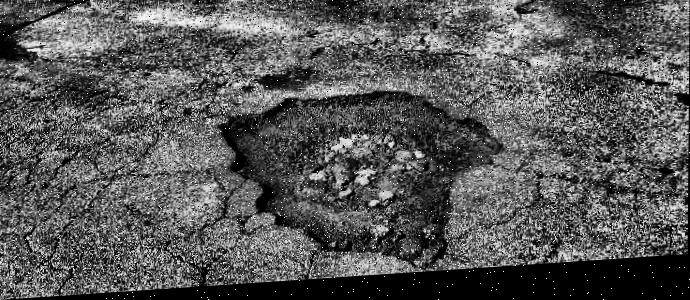pothole: (214, 81, 507, 283)
